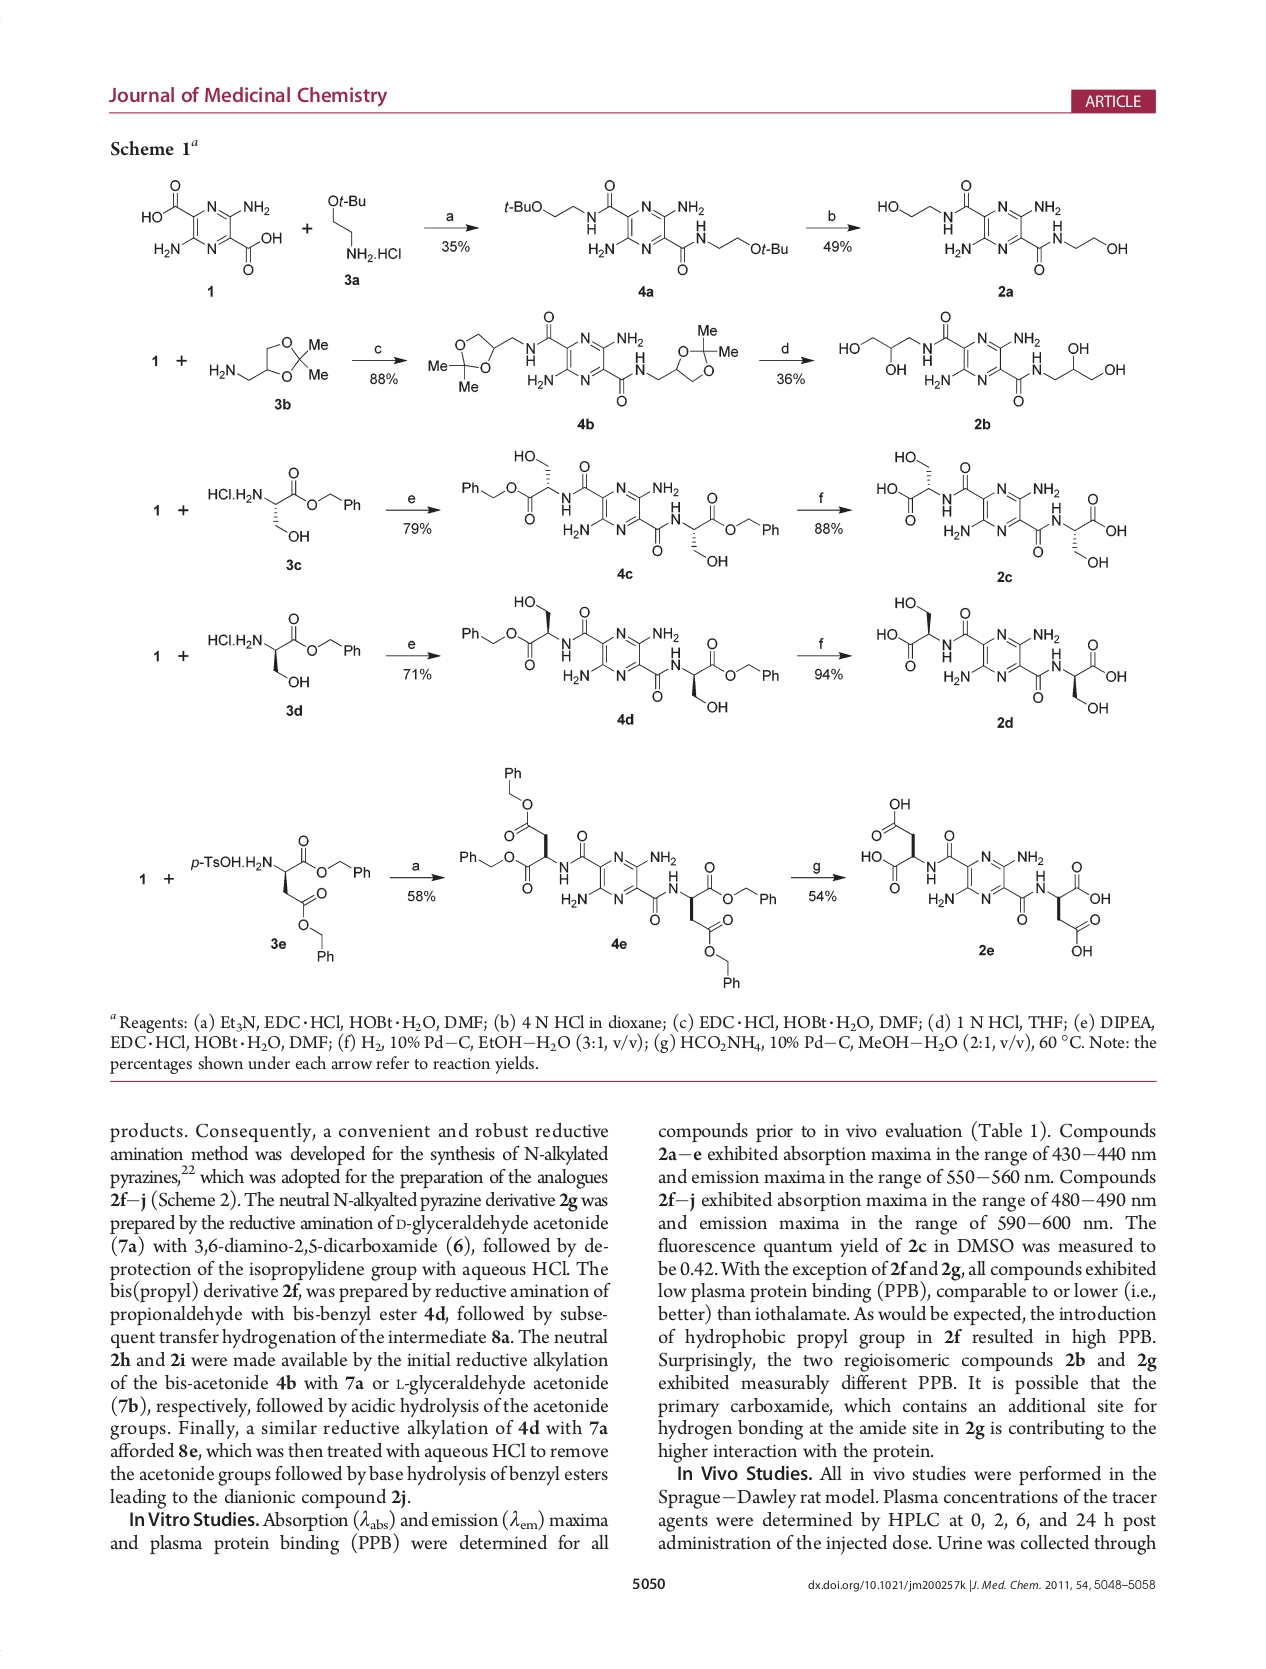exist_molecular: (457, 761, 781, 989), (859, 794, 1114, 959), (453, 446, 782, 571), (459, 590, 782, 714), (872, 443, 1130, 571), (872, 592, 1130, 714), (426, 309, 741, 407), (500, 174, 791, 278), (836, 306, 1126, 407), (876, 176, 1130, 278), (188, 833, 374, 965), (137, 172, 285, 279), (203, 461, 364, 544), (203, 610, 364, 690), (206, 334, 332, 390), (324, 188, 410, 267)
